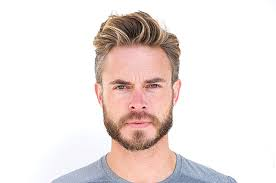white_male: (95, 26, 178, 140)
